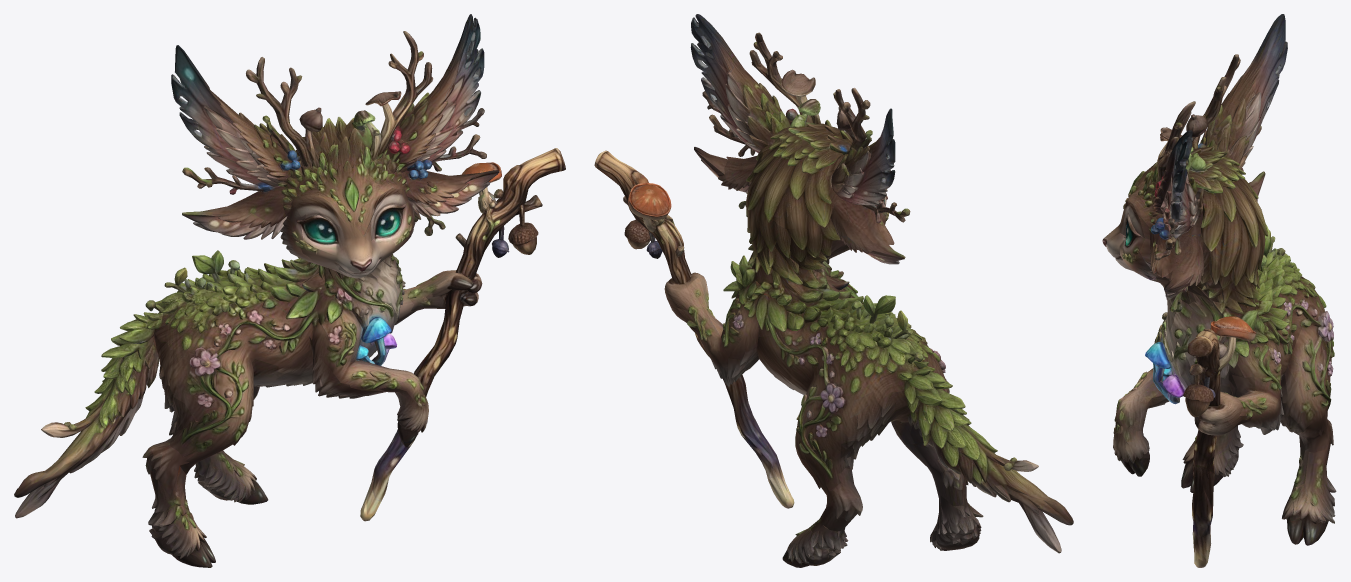
The picture shows the model from 3 angles, left to right: view 1: azimuth 30°, elevation 25°; view 2: azimuth 150°, elevation 25°; view 3: azimuth 270°, elevation 25°; orthographic projection. The views are drawn at different scales.
Visible parts, largest first — view 1: output_unwrapped; view 2: output_unwrapped; view 3: output_unwrapped.
Boxes of the visible parts, left/top/right/bottom form: output_unwrapped: left=14, top=14, right=565, bottom=567; output_unwrapped: left=594, top=14, right=1073, bottom=567; output_unwrapped: left=1102, top=14, right=1336, bottom=567.
Size of the model in its own units: 1.91 by 1.71 by 0.742.
Materials: 1 (1 with a texture image).
